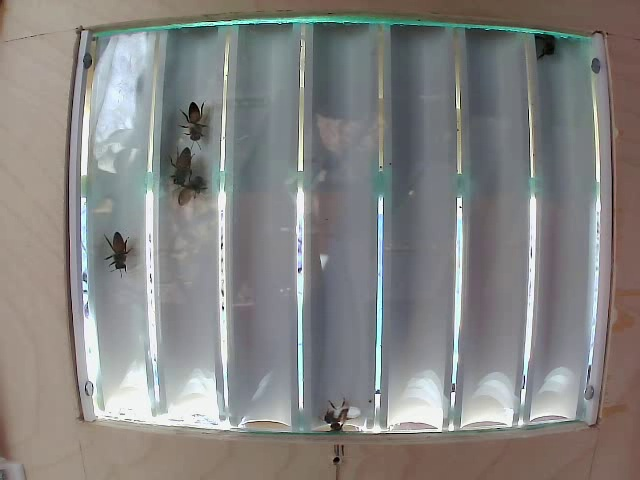bee: (529, 23, 565, 75), (176, 104, 219, 144), (106, 224, 140, 269), (175, 169, 209, 213), (163, 136, 192, 183)
